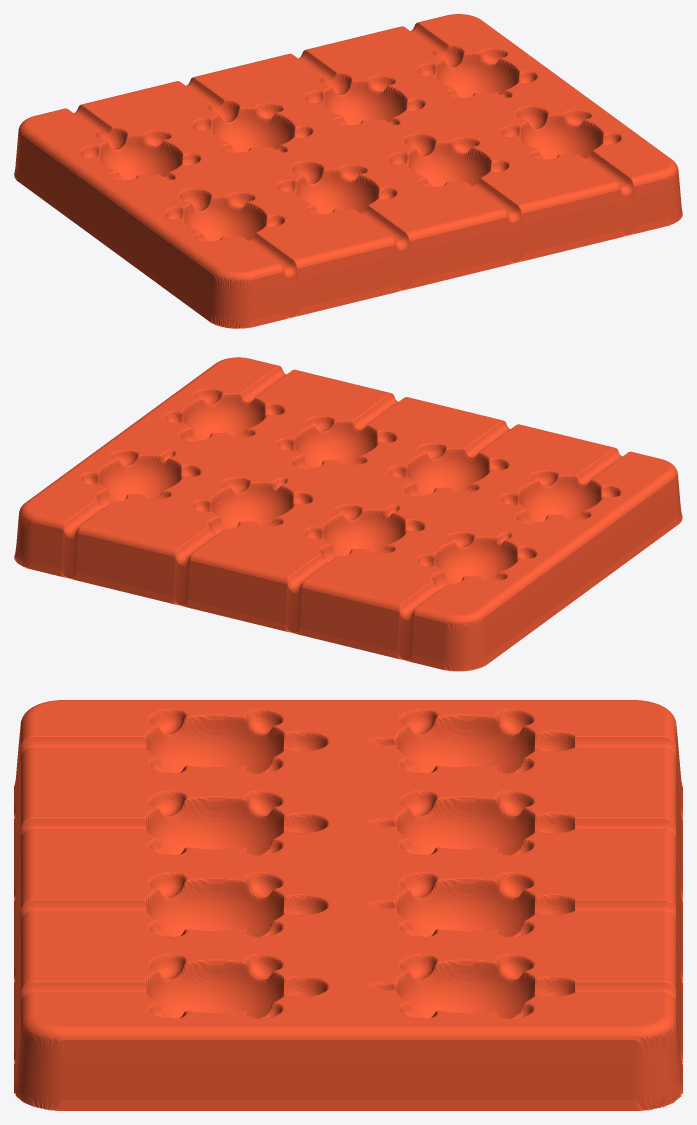
Rendered from mold.glb.
The picture shows the model from 3 angles, top to bottom: view 1: azimuth 30°, elevation 25°; view 2: azimuth 150°, elevation 25°; view 3: azimuth 270°, elevation 25°; orthographic projection. The views are drawn at different scales.
Visible parts, largest first — view 1: geometry_0; view 2: geometry_0; view 3: geometry_0.
Part boxes in pixels (left/top/right/bottom): geometry_0: left=14, top=14, right=682, bottom=328; geometry_0: left=14, top=357, right=682, bottom=671; geometry_0: left=14, top=700, right=682, bottom=1110.
Size of the model in its own units: 0.1485 by 0.0155 by 0.1229.
